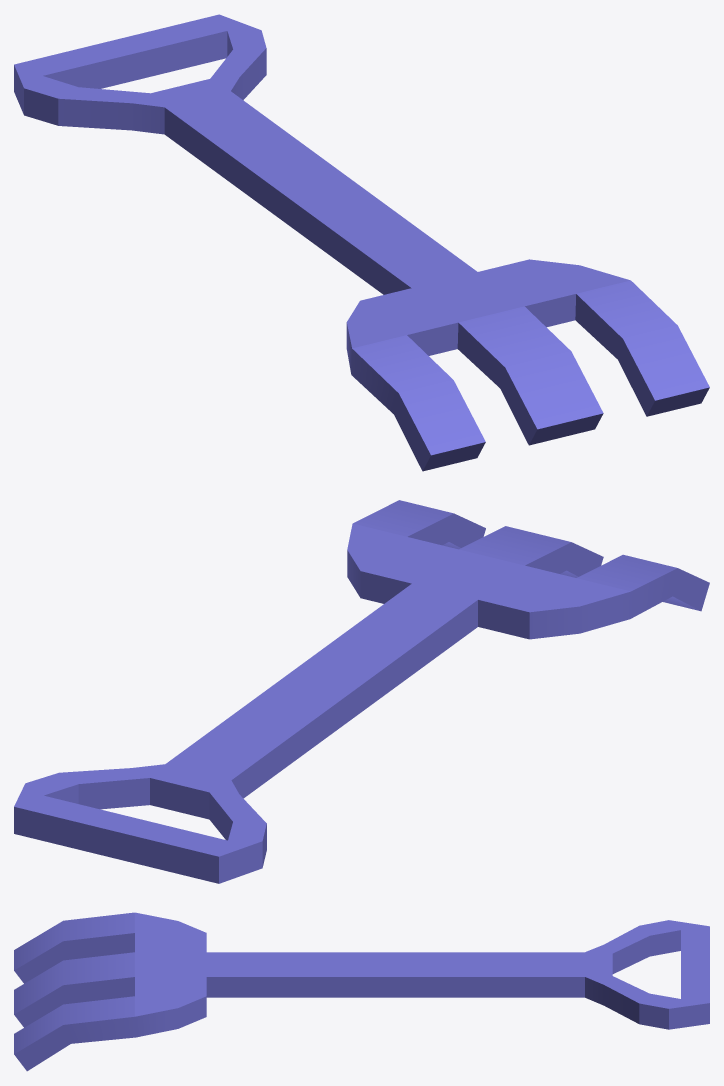
The model's file is RastrilloTresDientes.fbx.
3 views of the same model, one above another, from view 1: azimuth 30°, elevation 25°; view 2: azimuth 150°, elevation 25°; view 3: azimuth 270°, elevation 25° (orthographic). The views are drawn at different scales.
Parts seen in each view (by area): view 1: rastrillo_3_dientes; view 2: rastrillo_3_dientes; view 3: rastrillo_3_dientes.
Boxes of the visible parts, x1=… form: rastrillo_3_dientes: x1=14, y1=14, x2=709, y2=471; rastrillo_3_dientes: x1=14, y1=500, x2=709, y2=883; rastrillo_3_dientes: x1=14, y1=912, x2=709, y2=1071.
Bounding box in the file's own units: 3.19 × 0.7826 × 9.
